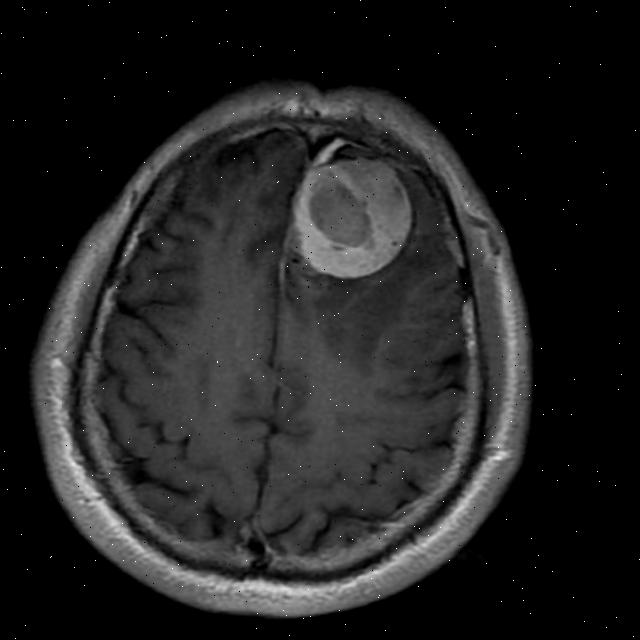Meningioma: (282, 127, 420, 288)
